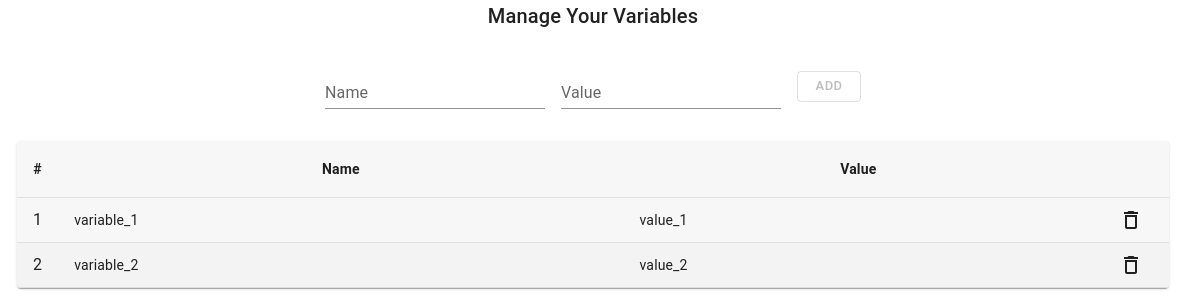
Test case: Variables Page › should remove a variable when the delete button is clicked
The image size is (1187, 307).
What coordinates should you click on to do the following:
click the button with test id "remove-variable_1"
I would click on:
 (1131, 220)
Its box is 1109,204 -> 1153,236.
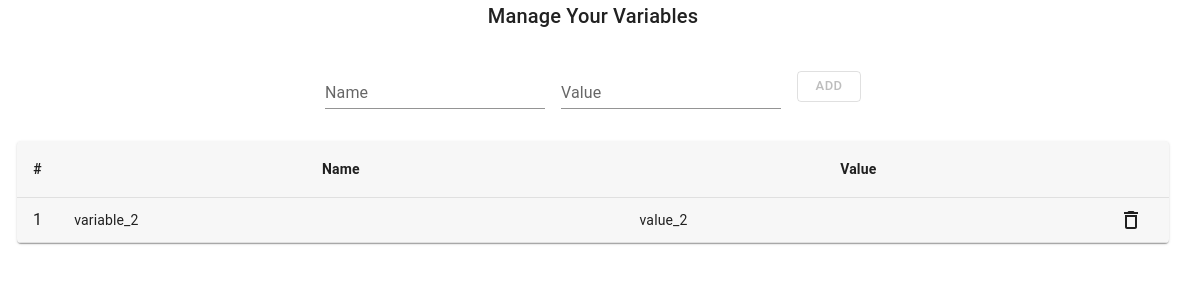
Expected: the text "variable_2" is shown, 58,198 -> 624,242
Expected: the text "variable_1" is gone
